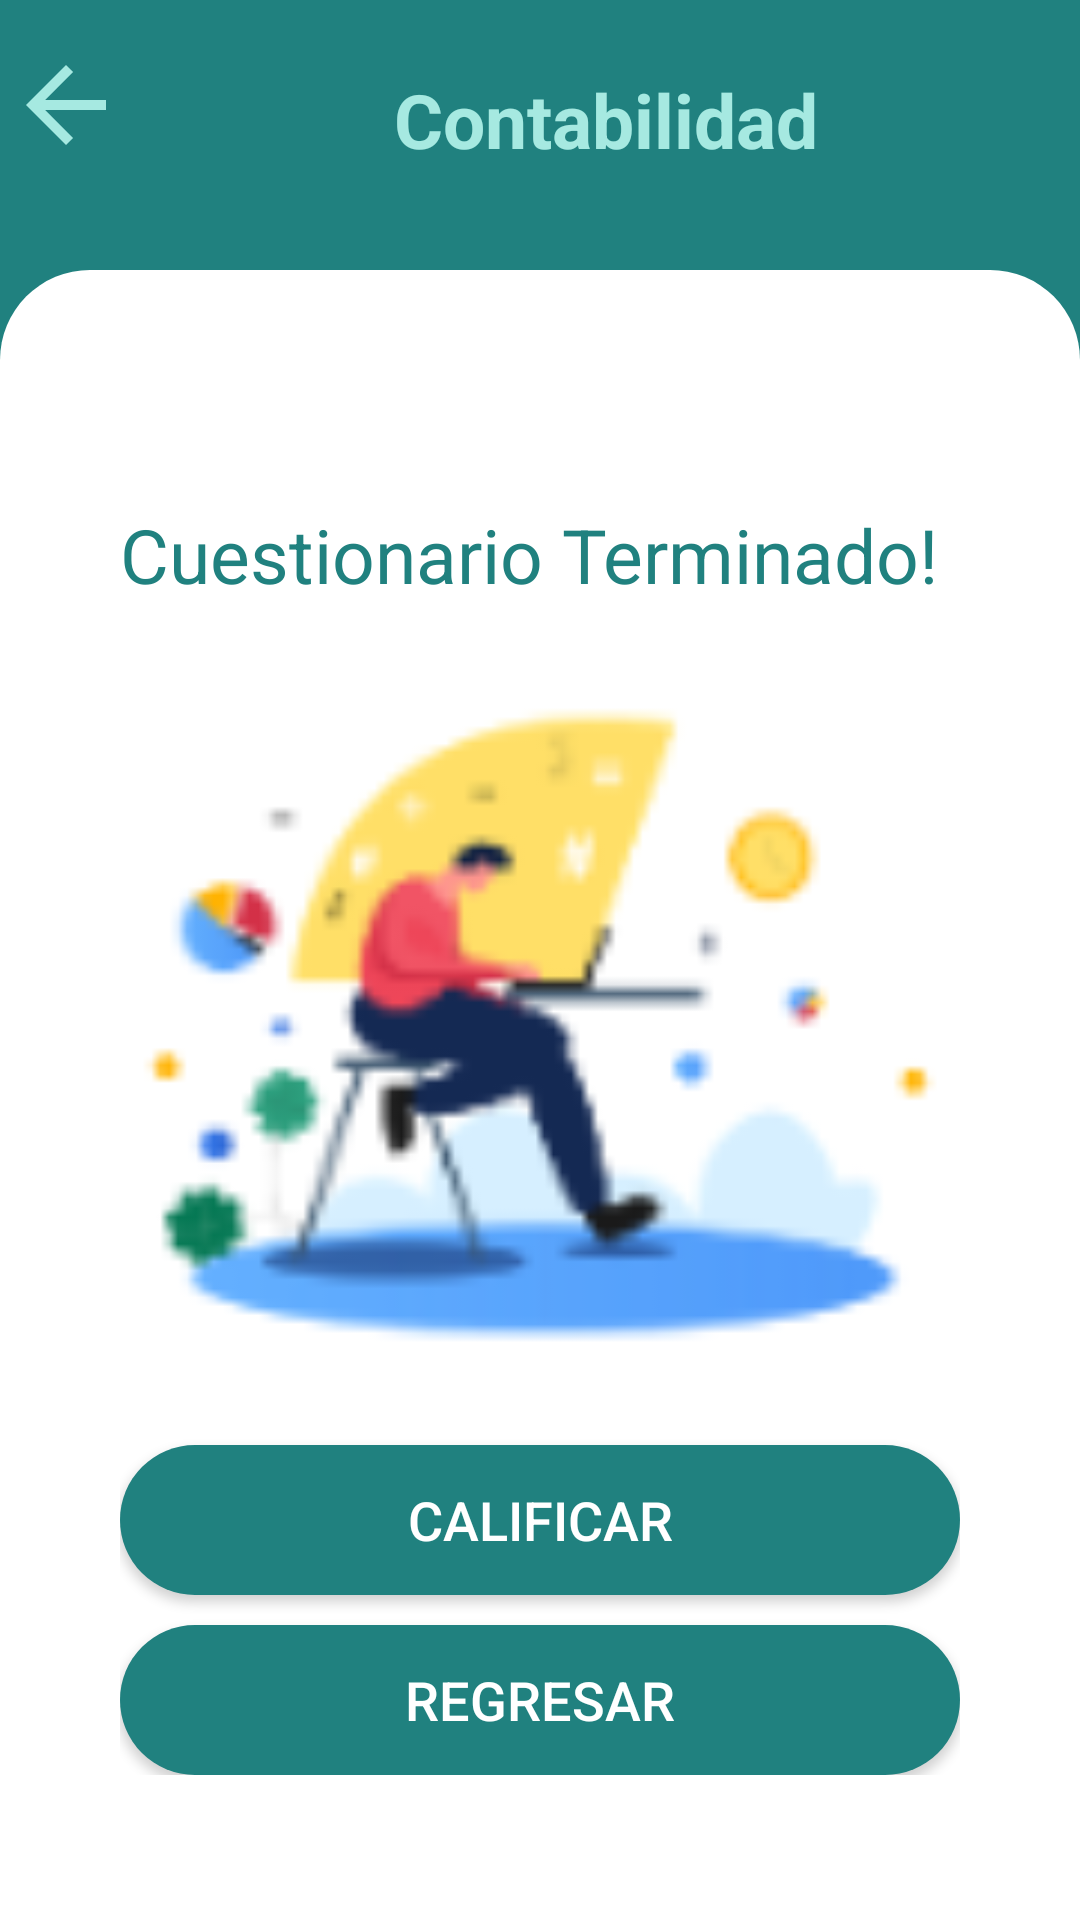

Icons on this 1080w x 1920h Android screen, each with its box as (x1, y1, x2, y2):
atras: (26, 65, 106, 145)
